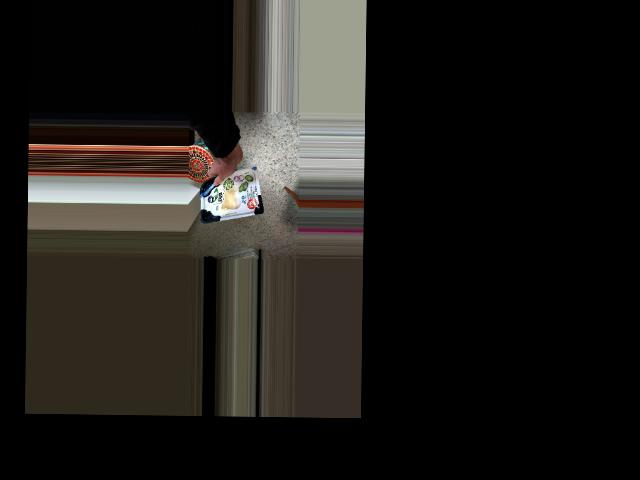cheese: (210, 157, 258, 207)
